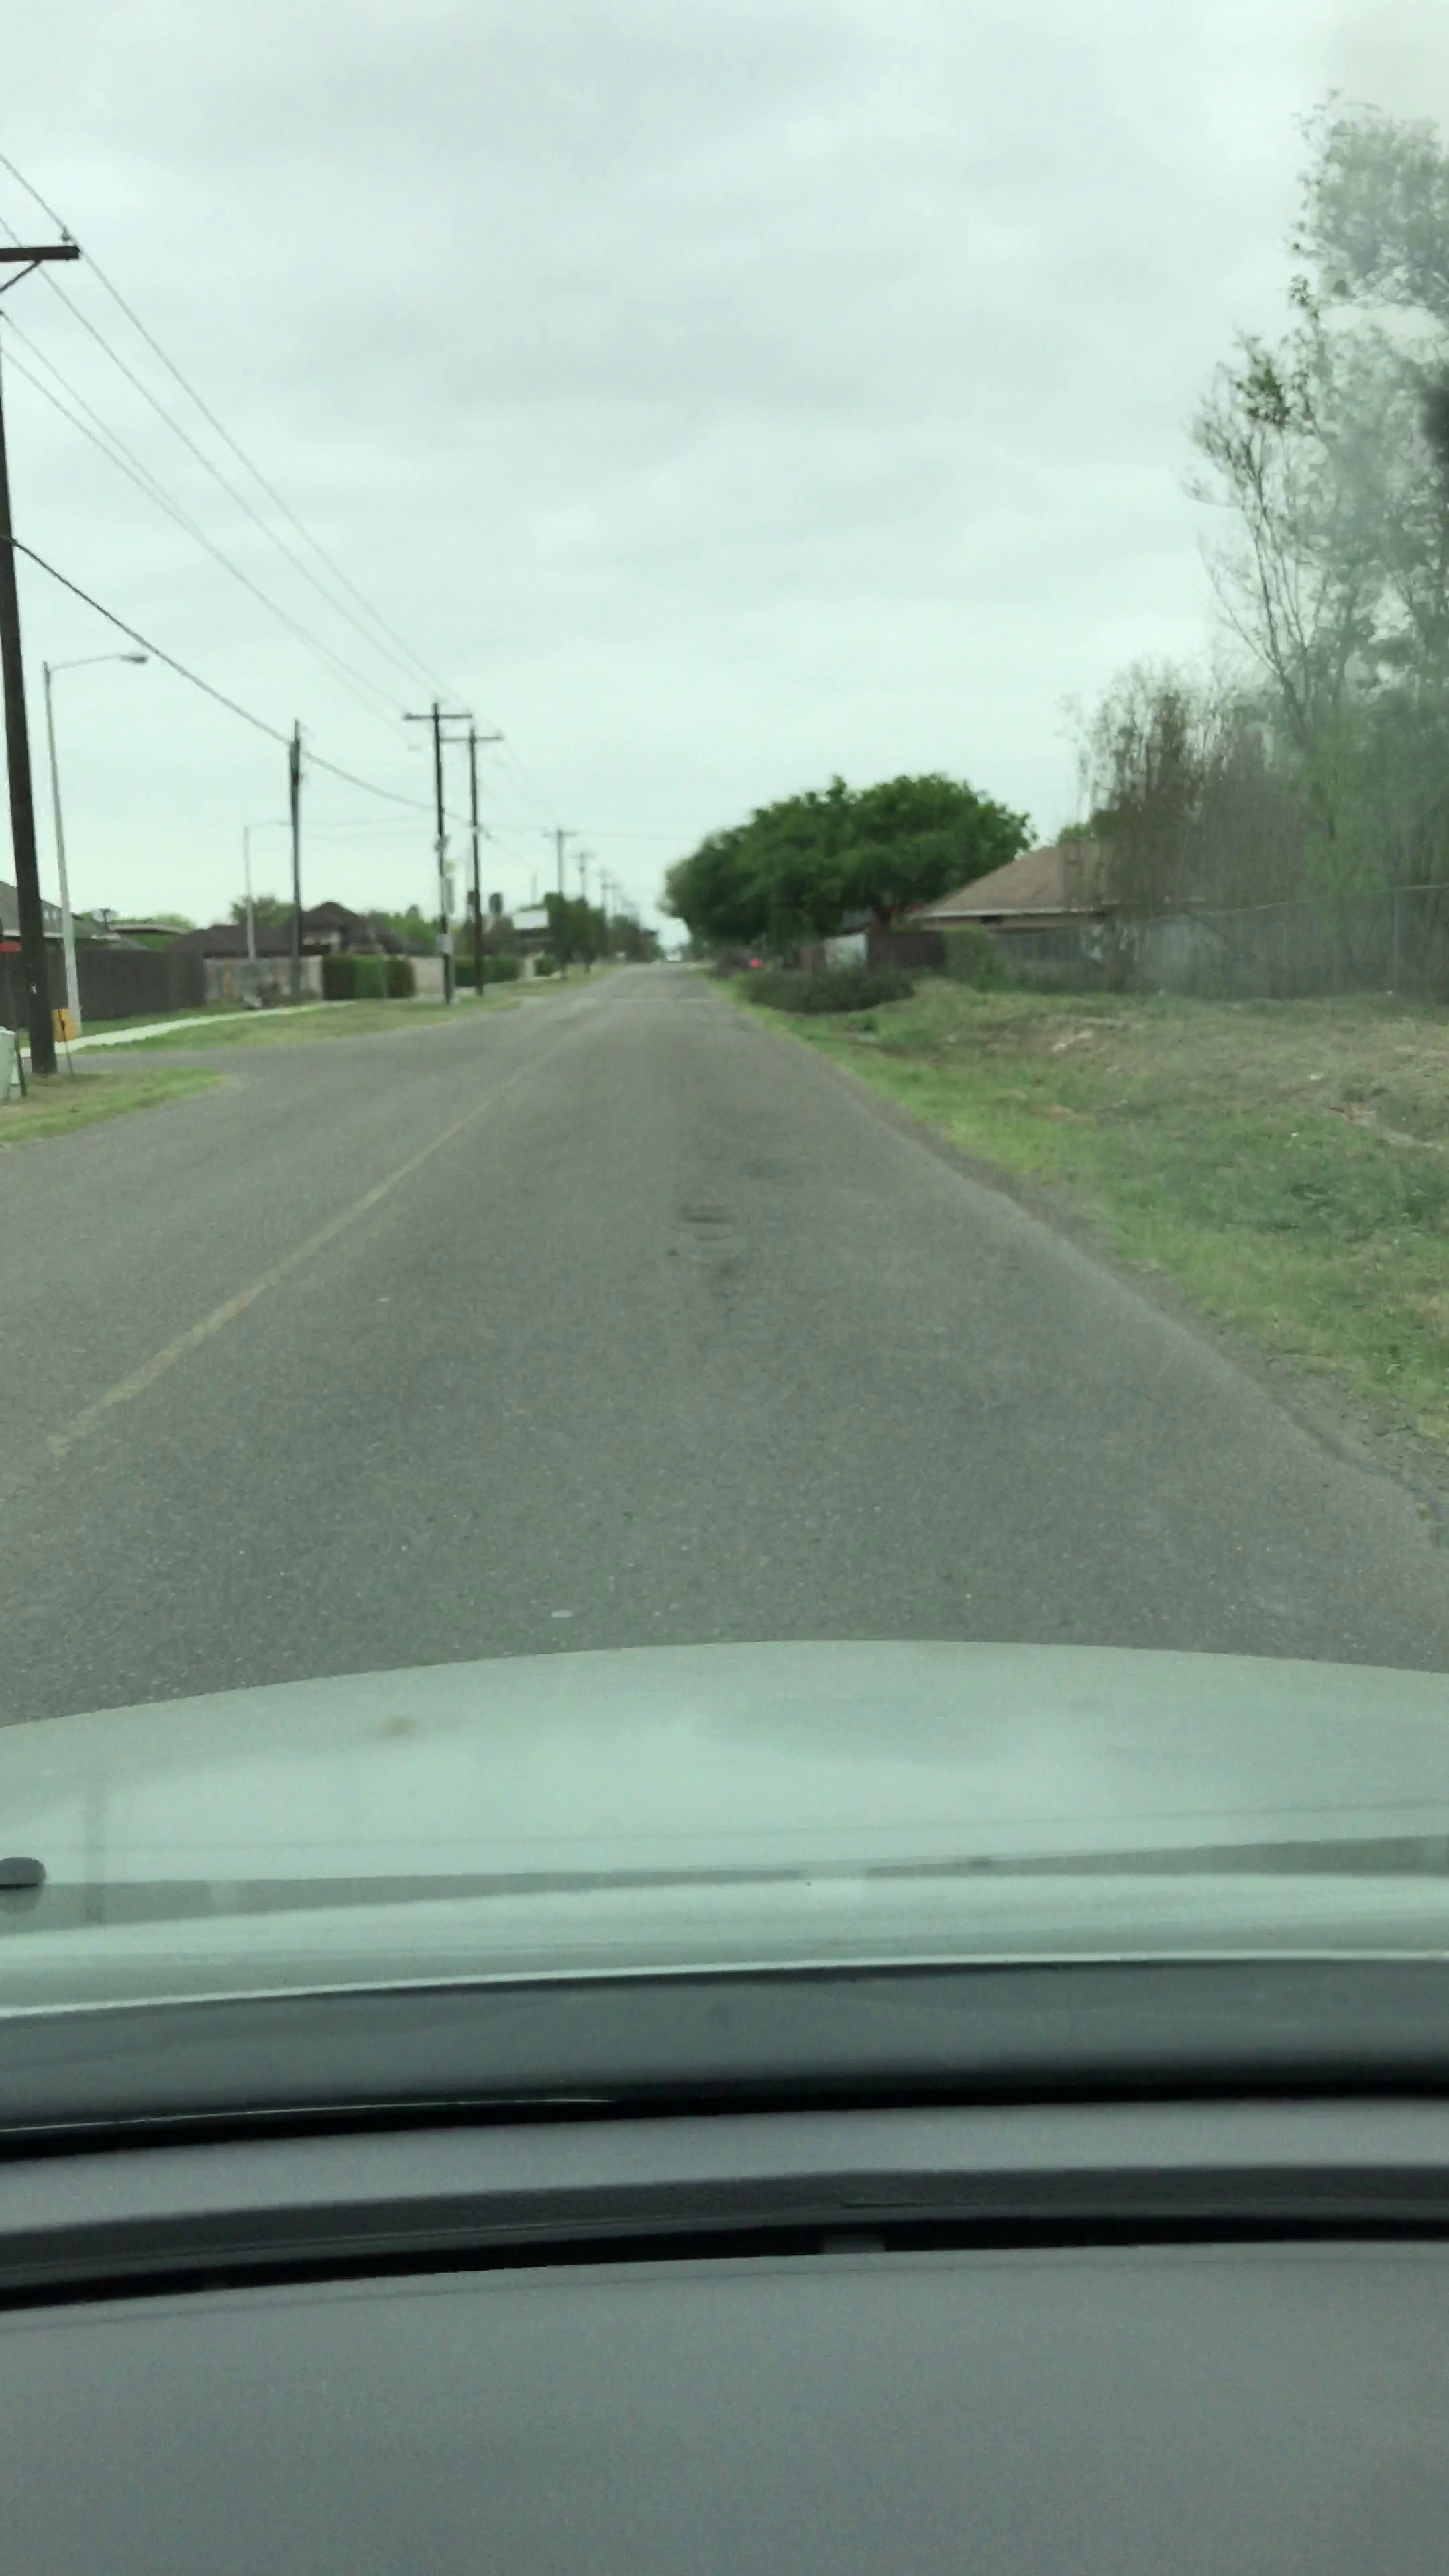blurredLine: (0, 1185, 364, 1491), (306, 1060, 531, 1272)
